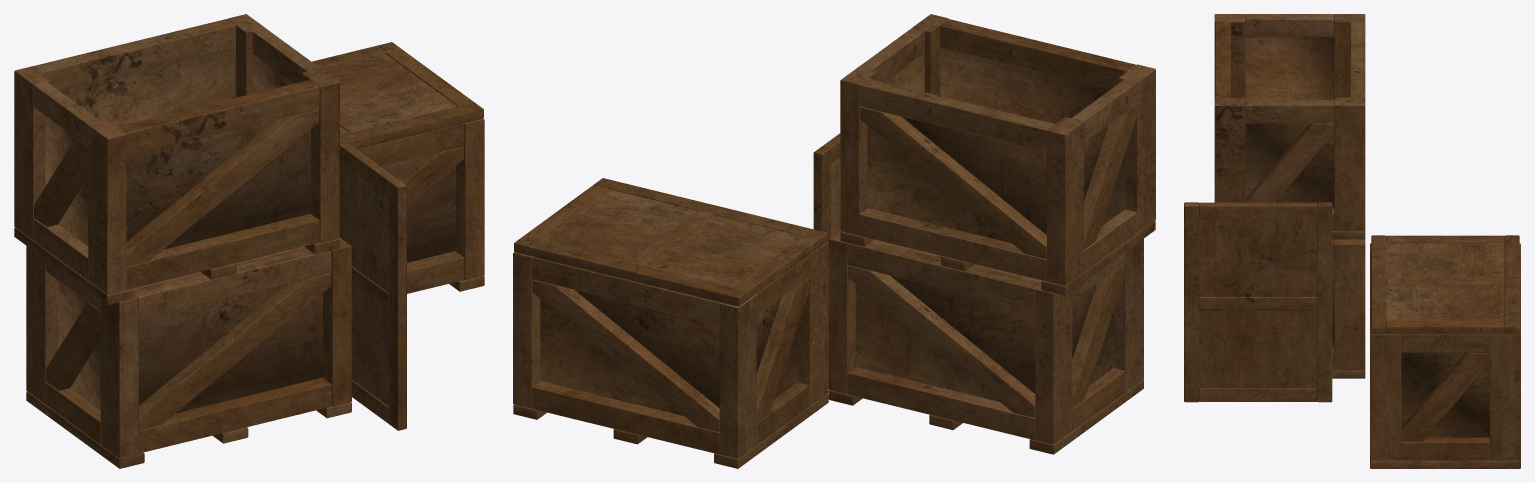
The picture shows the model from 3 angles, left to right: view 1: azimuth 30°, elevation 25°; view 2: azimuth 150°, elevation 25°; view 3: azimuth 270°, elevation 25°; orthographic projection. The views are drawn at different scales.
Visible parts, largest first — view 1: FG Wood Boxes.Shape; view 2: FG Wood Boxes.Shape; view 3: FG Wood Boxes.Shape.
Part boxes in pixels (x1=…): FG Wood Boxes.Shape: x1=14, y1=14, x2=484, y2=468; FG Wood Boxes.Shape: x1=513, y1=14, x2=1155, y2=468; FG Wood Boxes.Shape: x1=1184, y1=14, x2=1520, y2=468.
Bounding box in the file's own units: 153 × 106 × 116.
1 material, 1 textured.
